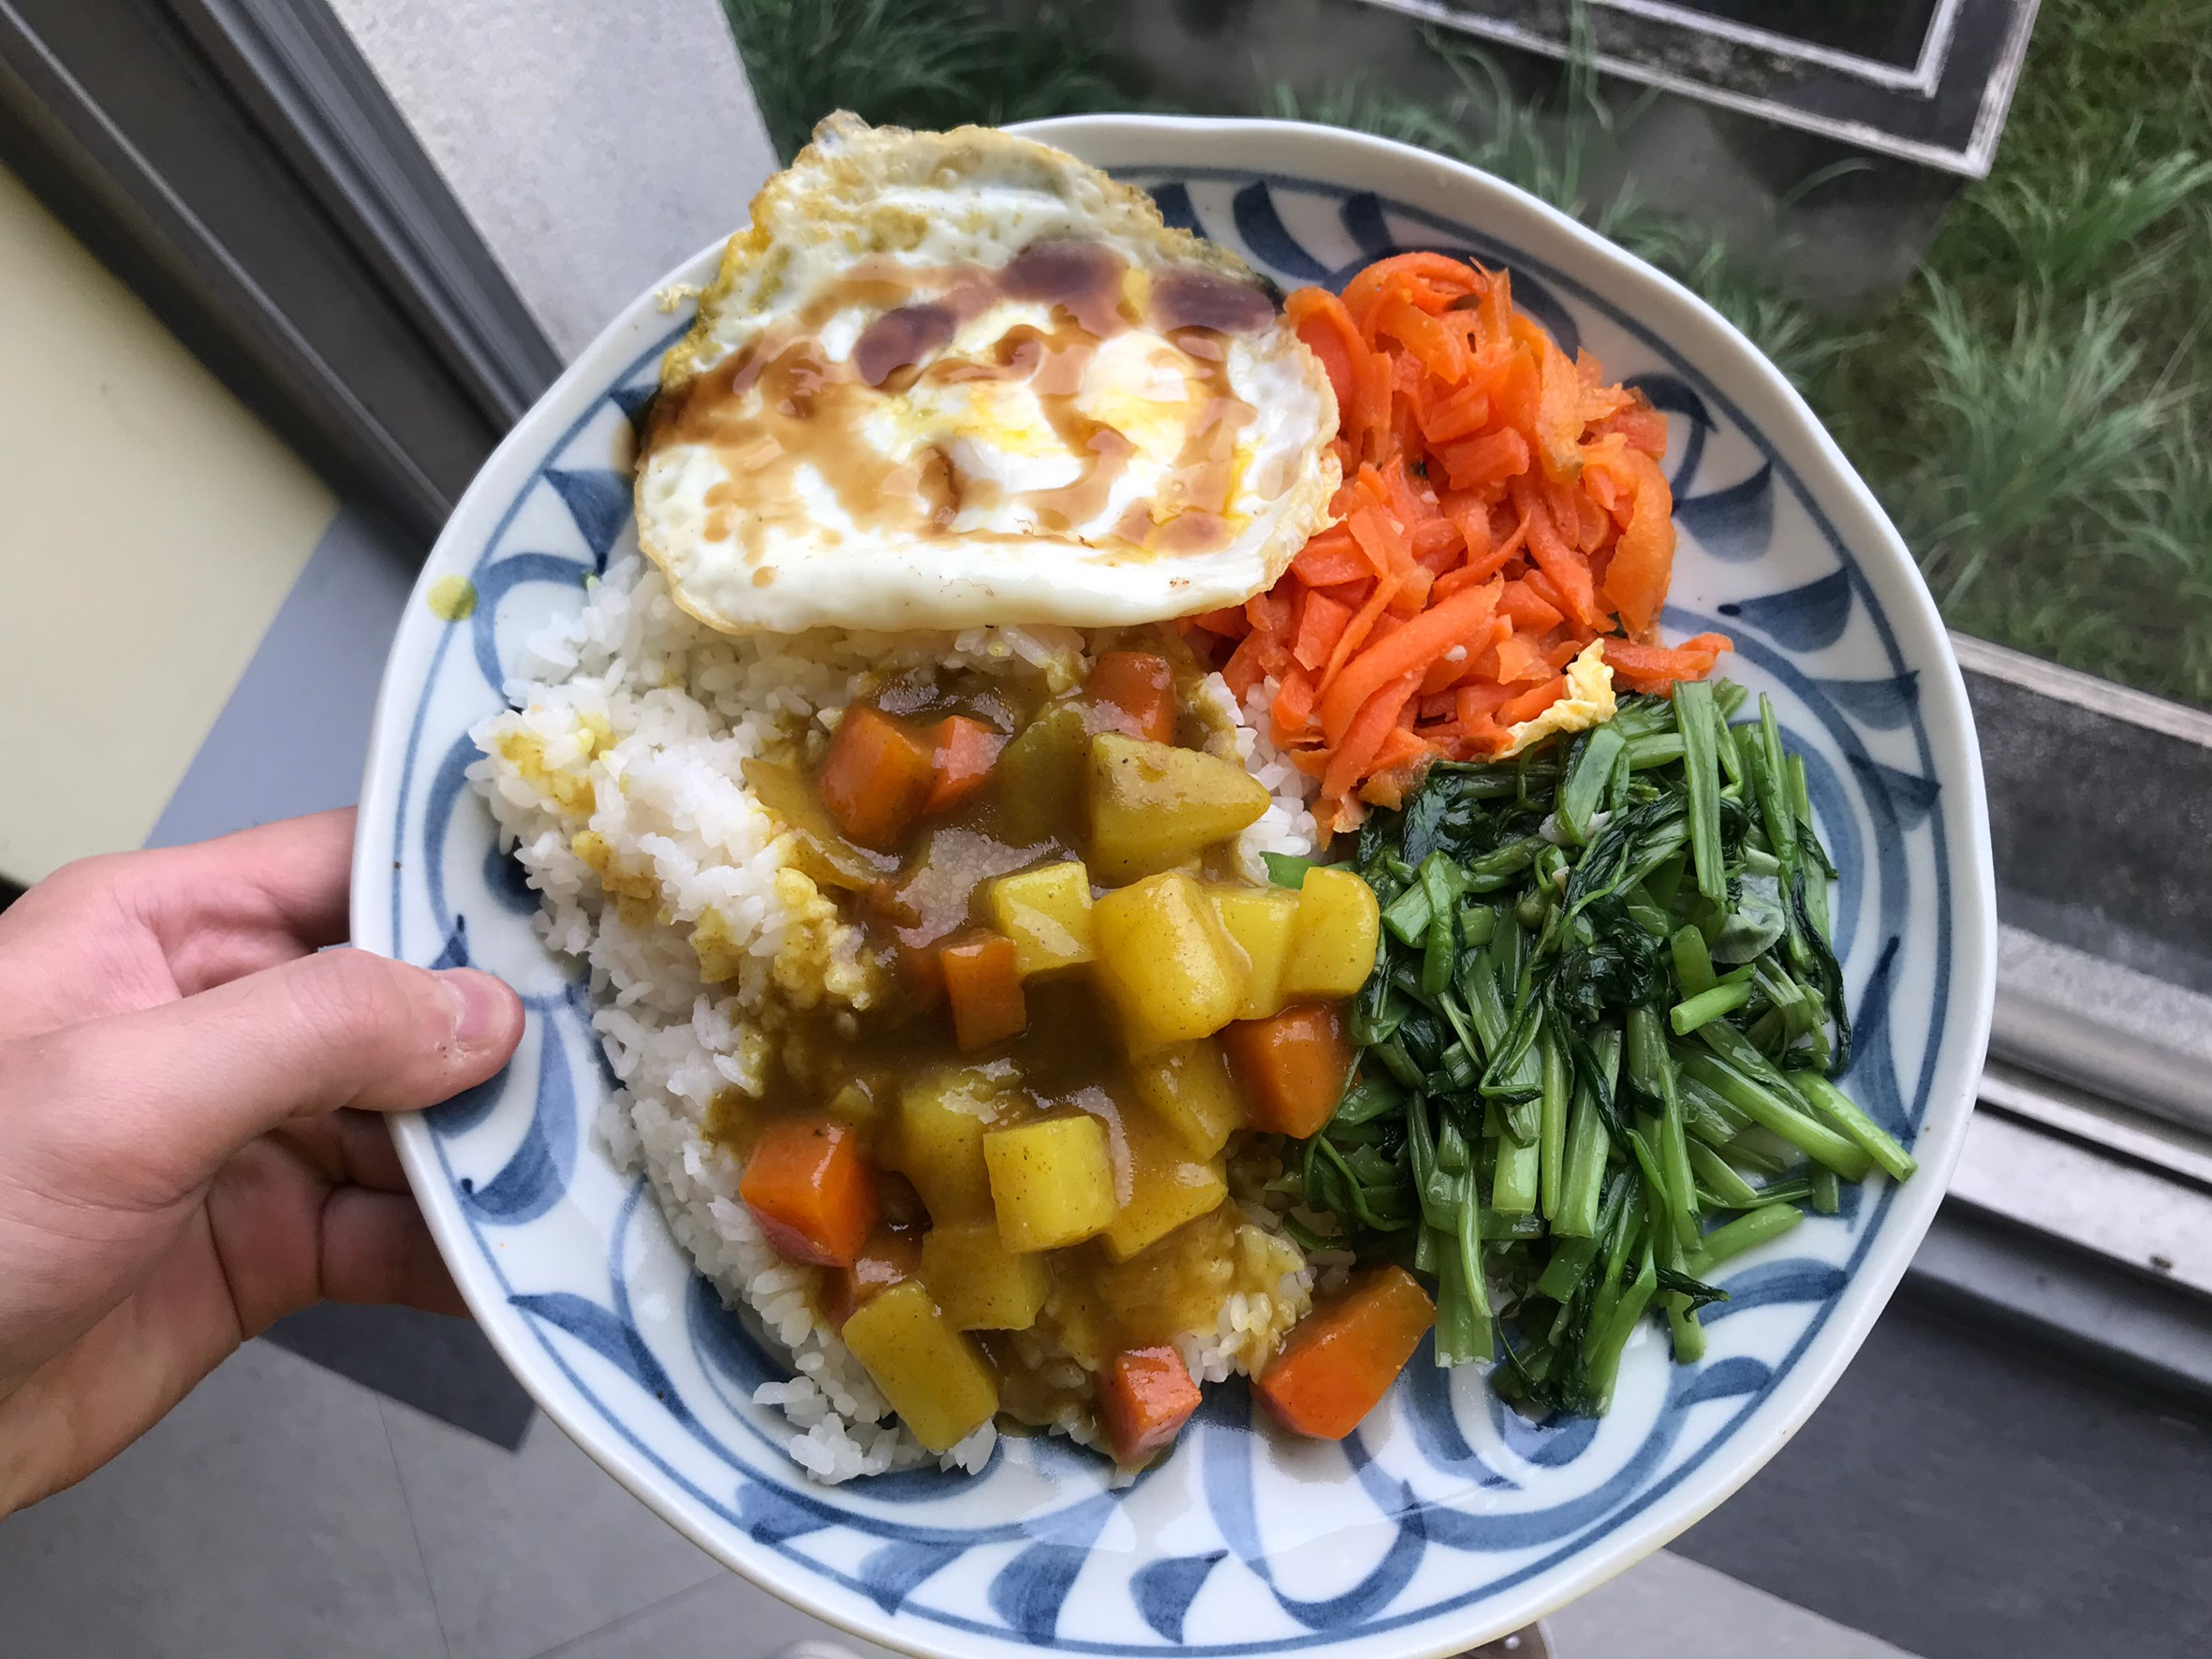carrot_eggs: (1333, 249, 1679, 734)
curry: (807, 636, 1318, 1439)
fried_eggs: (633, 118, 1349, 631)
rice: (512, 638, 804, 1314)
water_spinach: (1337, 744, 1839, 1429)
